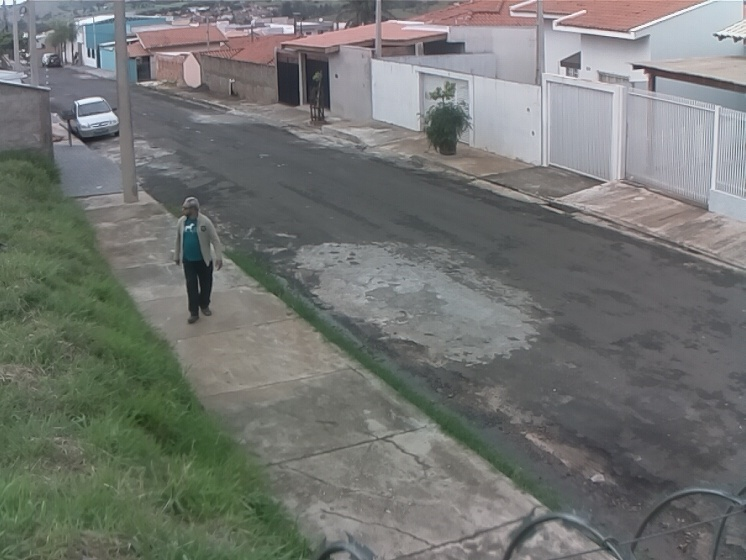person: (173, 194, 229, 328)
